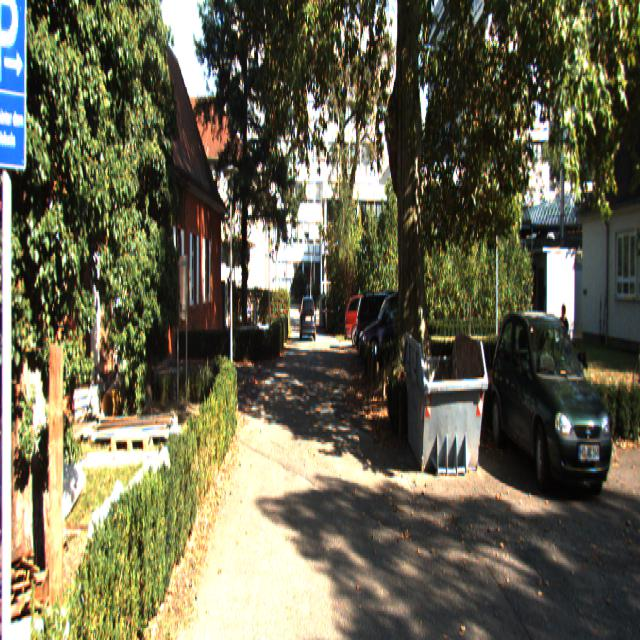Car: (488, 307, 622, 507), (356, 290, 428, 374), (355, 291, 418, 364), (346, 292, 396, 350), (301, 297, 316, 343)
